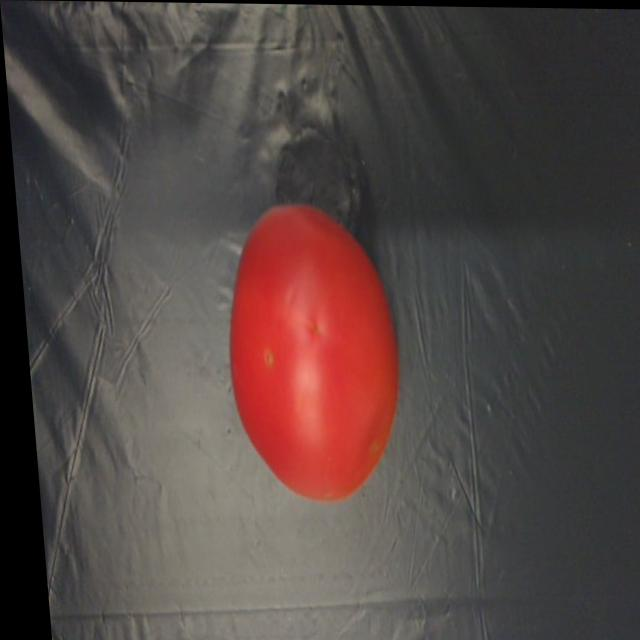kirmizi: (203, 187, 411, 507)
